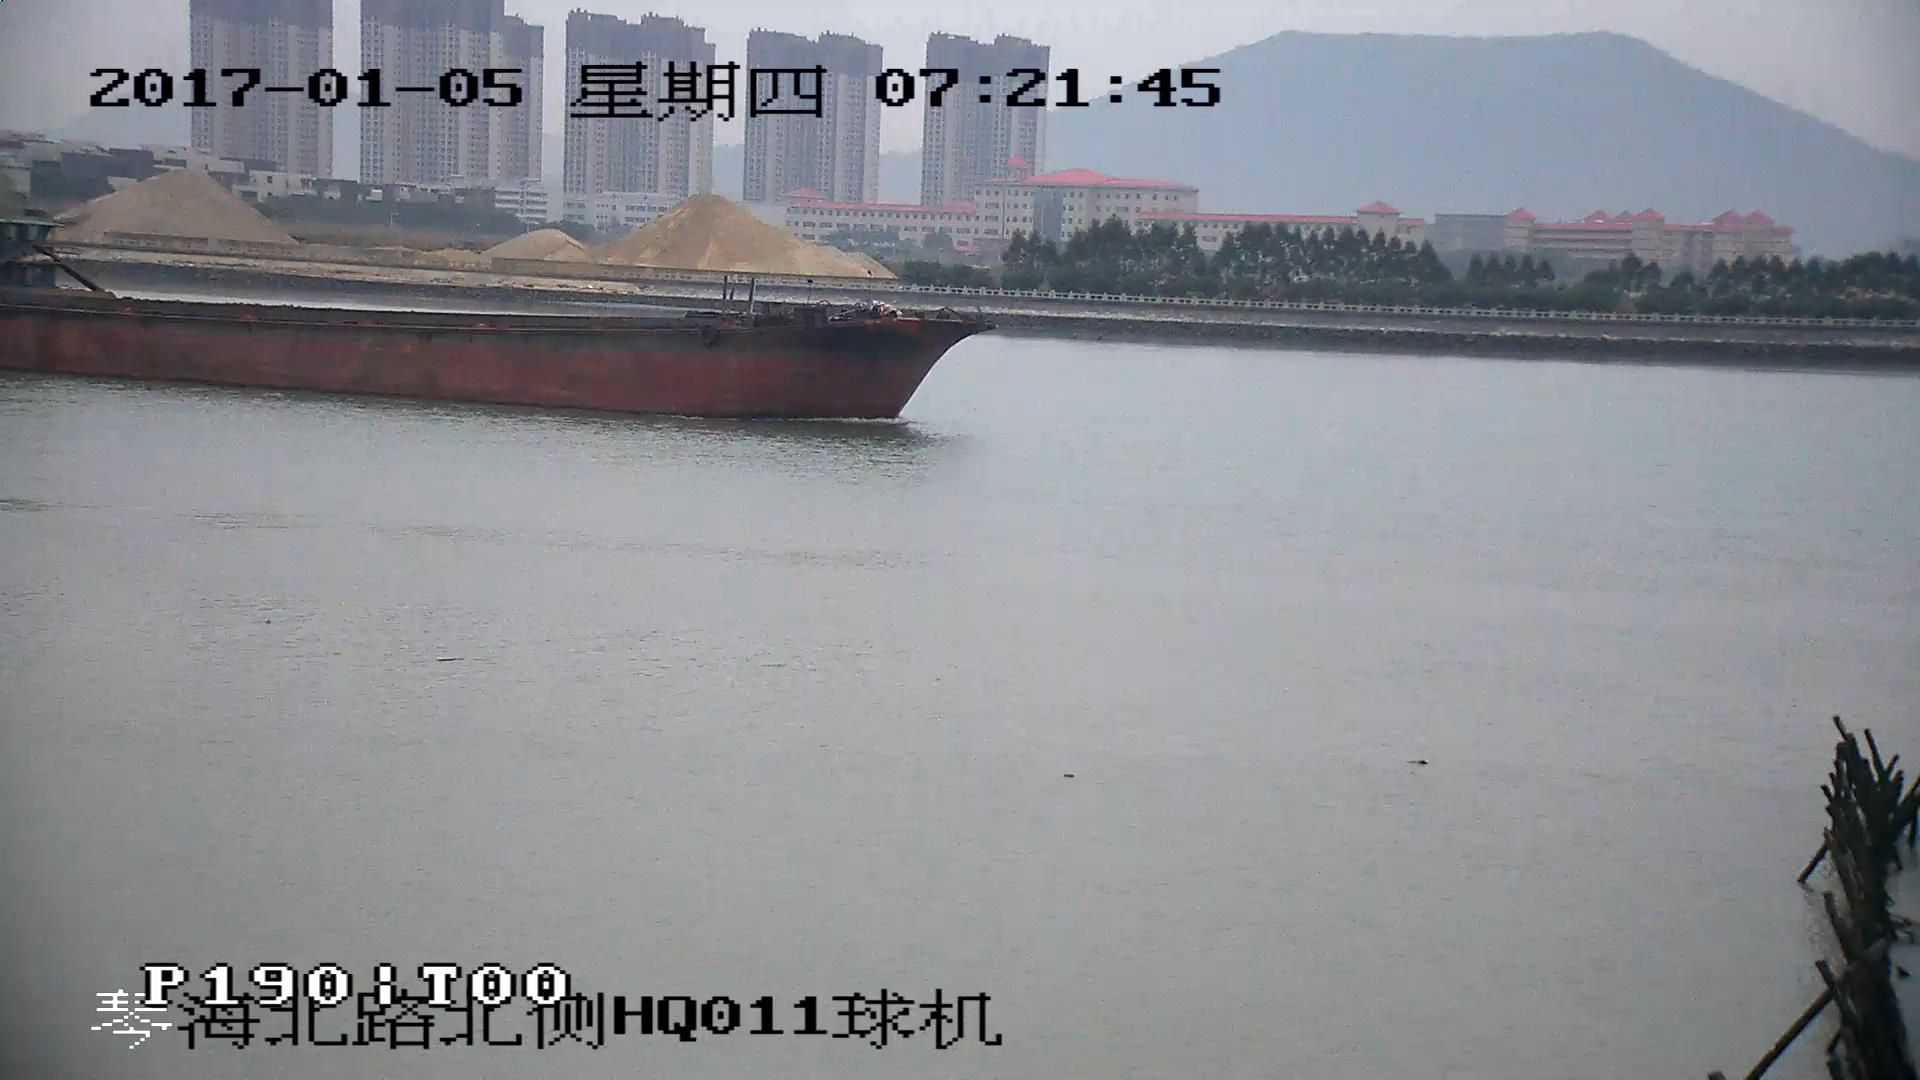bulk cargo carrier: (1, 221, 994, 420)
